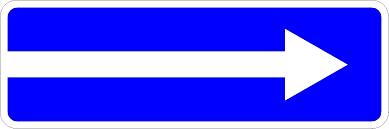One-Way Traffic: (6, 7, 383, 122)
